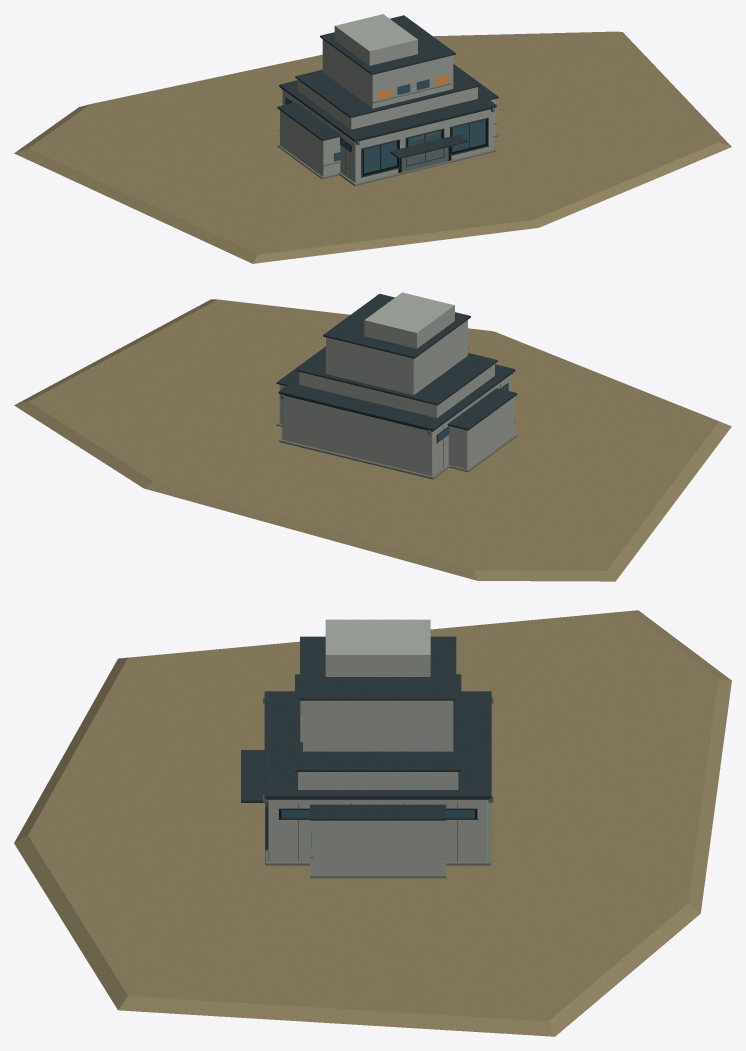
File: kit.glb
3 views of the same model, one above another, from view 1: azimuth 30°, elevation 25°; view 2: azimuth 150°, elevation 25°; view 3: azimuth 270°, elevation 25° (orthographic). The views are drawn at different scales.
Visible parts, largest first — view 1: kit_shoreland__atlas, kit_warehouse__atlas, kit_shore2__atlas, kit_shore0__atlas, kit_shore1__atlas; view 2: kit_shoreland__atlas, kit_warehouse__atlas, kit_shore2__atlas, kit_shore0__atlas, kit_shore1__atlas; view 3: kit_shoreland__atlas, kit_shore2__atlas, kit_warehouse__atlas, kit_shore1__atlas, kit_shore0__atlas.
Part boxes in pixels (x1,y1,x2,y2): kit_shoreland__atlas: (14, 31, 731, 263); kit_warehouse__atlas: (279, 80, 496, 185); kit_shore2__atlas: (320, 14, 455, 108); kit_shore0__atlas: (295, 65, 480, 129); kit_shore1__atlas: (277, 64, 498, 179); kit_shoreland__atlas: (14, 299, 731, 581); kit_warehouse__atlas: (278, 364, 515, 479); kit_shore2__atlas: (323, 292, 470, 395); kit_shore0__atlas: (296, 348, 497, 417); kit_shore1__atlas: (276, 346, 517, 471); kit_shoreland__atlas: (14, 610, 731, 1036); kit_shore2__atlas: (300, 619, 456, 751); kit_warehouse__atlas: (241, 691, 493, 865); kit_shore1__atlas: (310, 804, 446, 878); kit_shore0__atlas: (295, 674, 461, 789).
Size of what is drawn, in the model's own units: 101 by 19.35 by 71.76.
Materials: 4 (4 with a texture image).
